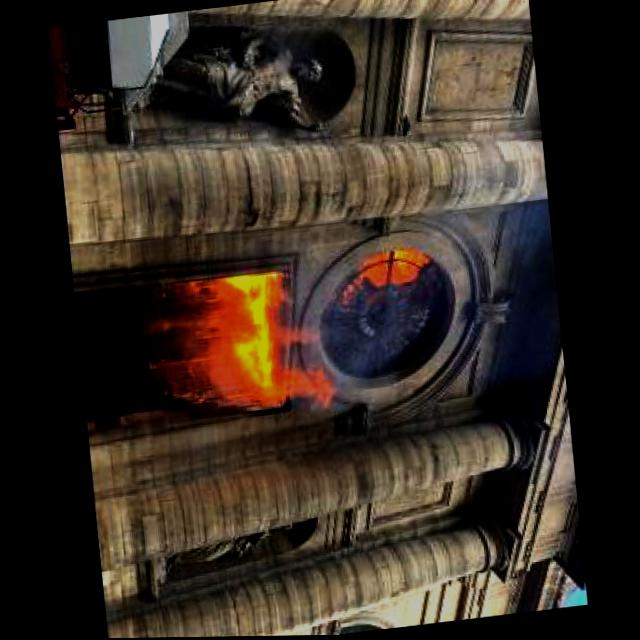Fire: (205, 258, 338, 424), (355, 238, 441, 297)
